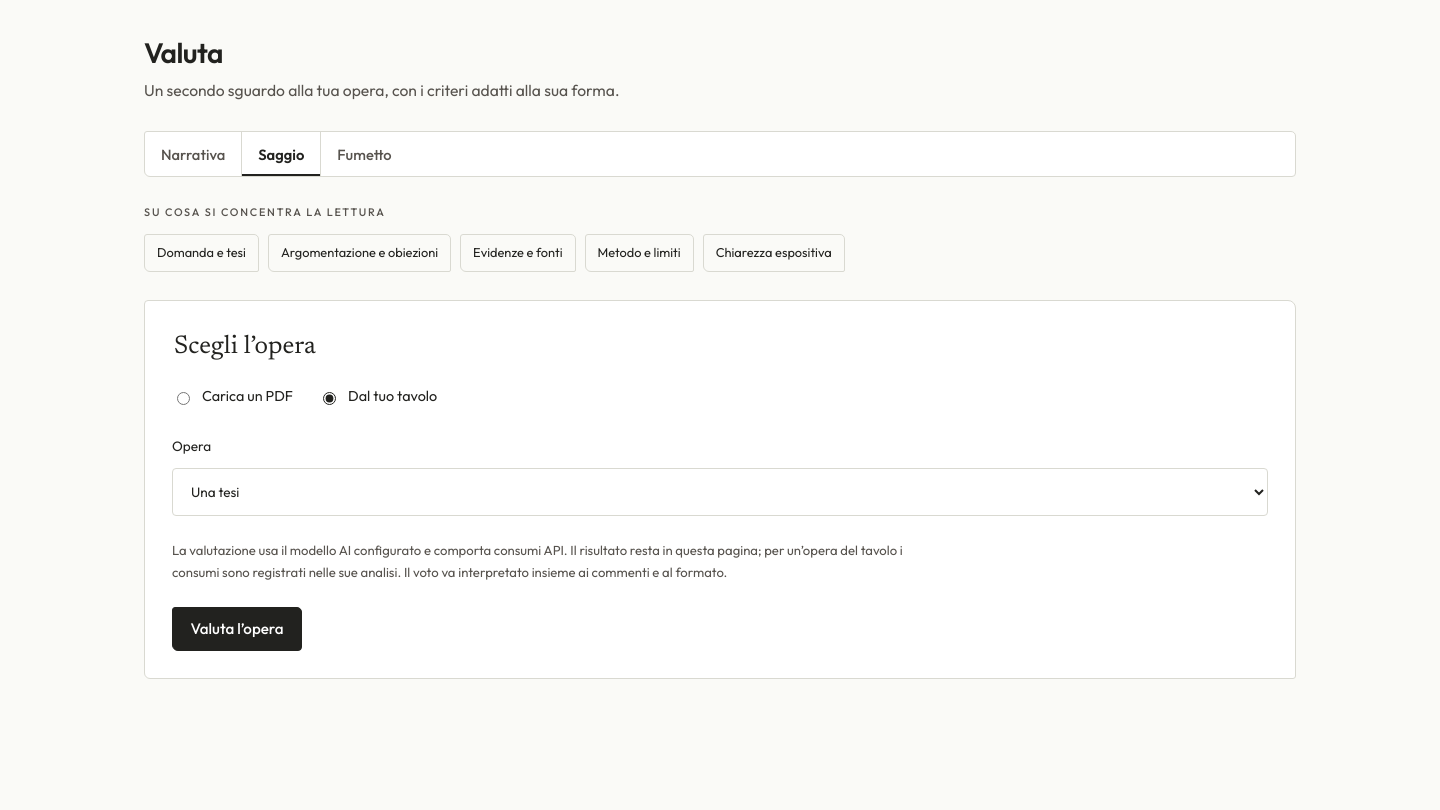
Test: evaluates an essay from the bookshelf using the essay endpoint and renders its criteria
What coordinates should you click on to do the following:
click the button "Valuta l’opera"
I would click on:
 (237, 629)
Its box is [172,607,302,651].
(page scrolled)
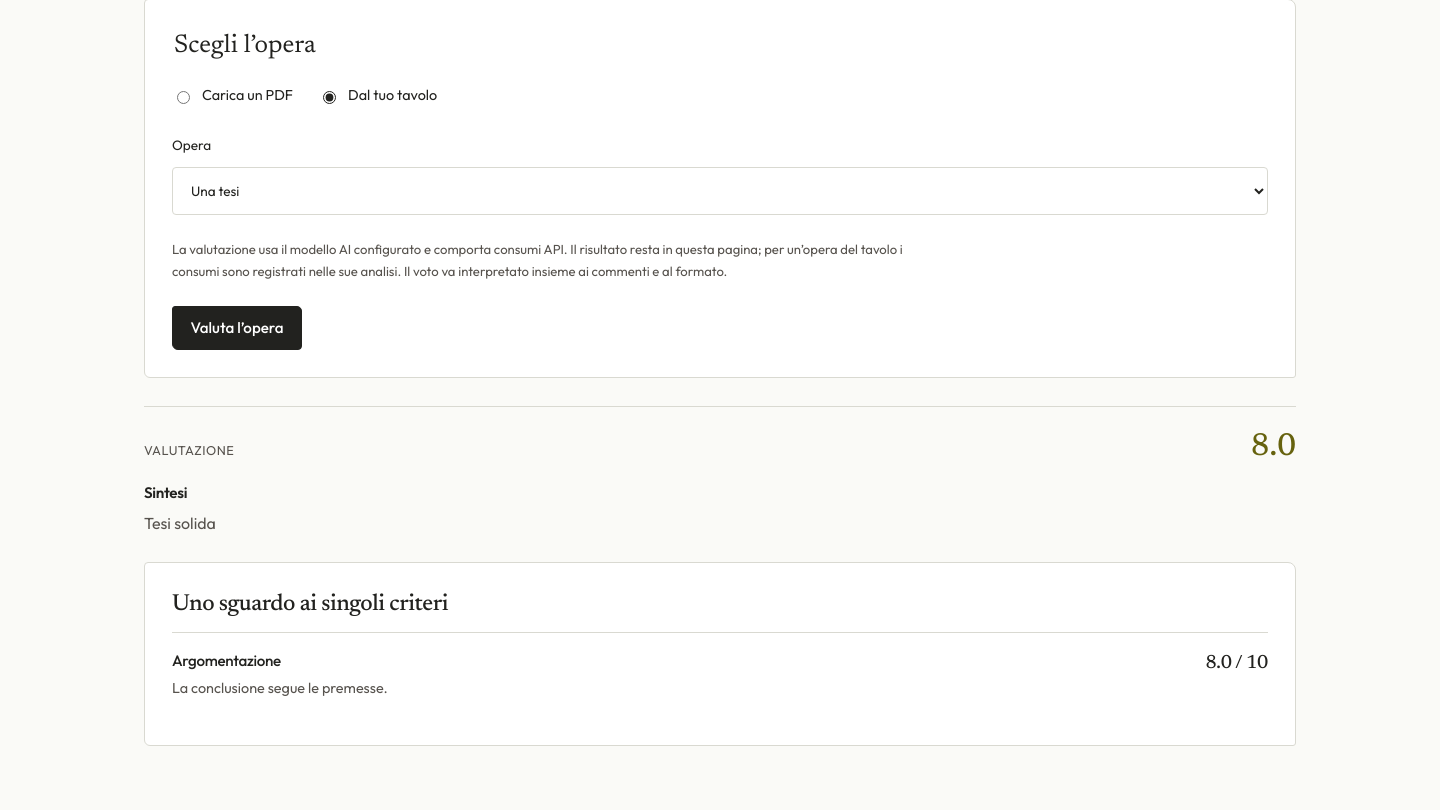
Check: the text "Tesi solida" is shown, box [144,513,216,533]
Check: the text "La conclusione segue le premesse." is shown, box [172,679,388,697]
